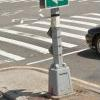Crosswalk: (0, 21, 91, 65)
